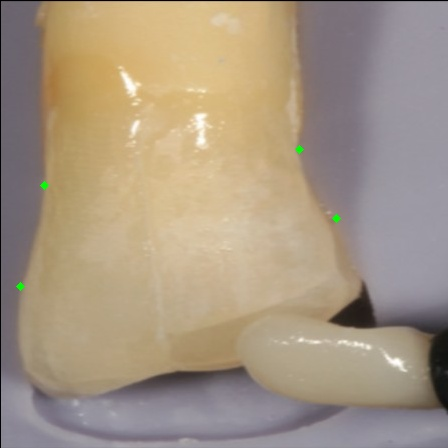coin_1: (299, 149, 319, 169)
coin_2: (336, 218, 356, 238)
coin_3: (44, 185, 64, 205)
coin_4: (20, 286, 40, 306)
